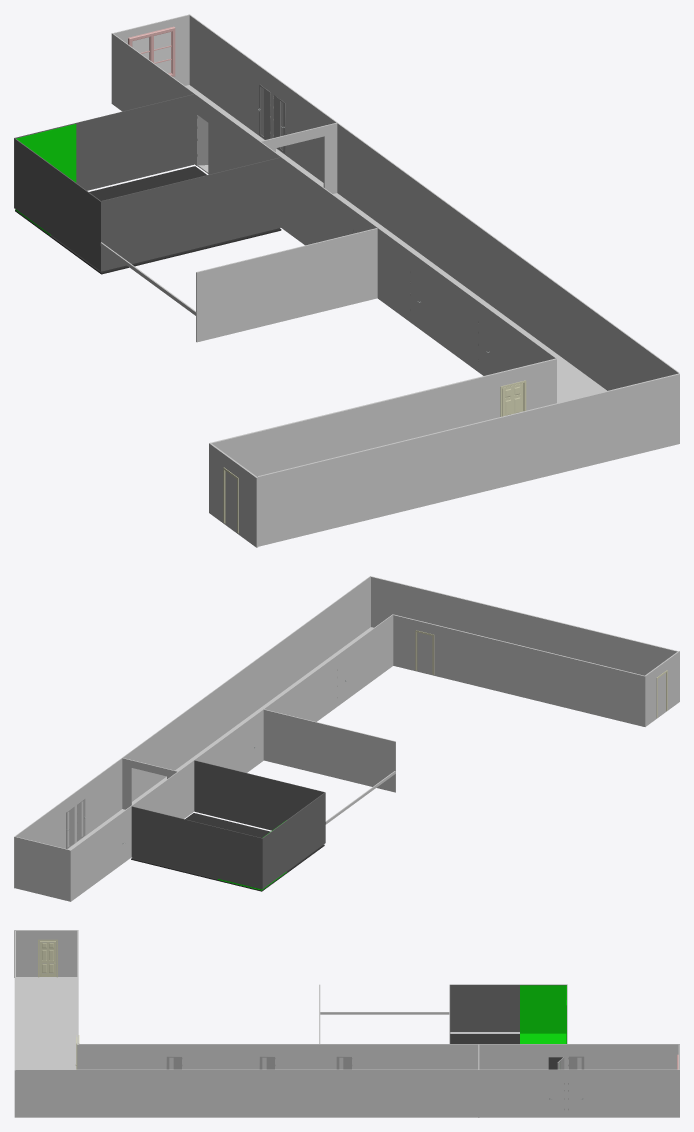
The model's file is ethnotech.glb.
3 renders of one model, top to bottom at view 1: azimuth 30°, elevation 25°; view 2: azimuth 150°, elevation 25°; view 3: azimuth 270°, elevation 25°, orthographic. The views are drawn at different scales.
Visible parts, largest first — view 1: Cube, Cube.005, Cube.009, Cube.001, Cube.006, Cube.012, Cube.007, Cube.002, Cube.010, Cube.011, Cube.003, Cube.004 (+2 smaller); view 2: Cube, Cube.009, Cube.001, Cube.006, Cube.005, Cube.012, Cube.004, Cube.007, Cube.010, Cube.002, Cube.003; view 3: Cube, Cube.001, Cube.002, Cube.009, Cube.011, Cube.007, Cube.010, uploads_files_715338_basic_door, Cube.012, Cube.005.
Part boxes in pixels (box(x1,y1,x2,y2)): Cube: box(189, 14, 679, 390); Cube.005: box(257, 373, 679, 546); Cube.009: box(14, 94, 280, 271); Cube.001: box(111, 33, 556, 375); Cube.006: box(210, 358, 556, 476); Cube.012: box(100, 228, 377, 342); Cube.007: box(209, 443, 258, 547); Cube.002: box(185, 85, 606, 402); Cube.010: box(15, 166, 281, 274); Cube.011: box(15, 124, 76, 235); Cube.003: box(261, 122, 337, 193); Cube.004: box(113, 14, 189, 85); Cube: box(14, 576, 370, 888); Cube.009: box(131, 760, 325, 889); Cube.001: box(70, 614, 393, 901); Cube.006: box(393, 614, 644, 726); Cube.005: box(371, 576, 677, 675); Cube.012: box(263, 709, 395, 824); Cube.004: box(15, 836, 69, 901); Cube.007: box(644, 651, 679, 726); Cube.010: box(131, 813, 324, 891); Cube.002: box(68, 627, 373, 849); Cube.003: box(122, 758, 177, 809); Cube: box(16, 1069, 679, 1117); Cube.001: box(78, 1044, 679, 1069); Cube.002: box(16, 977, 77, 1069); Cube.009: box(449, 984, 567, 1043); Cube.011: box(520, 985, 566, 1043); Cube.007: box(14, 930, 78, 977); Cube.010: box(450, 1033, 562, 1069); uploads_files_715338_basic_door: box(38, 939, 57, 977); Cube.012: box(319, 984, 449, 1069); Cube.005: box(14, 931, 15, 1117).
Bounding box in the file's own units: 244 × 40.1 × 486.
